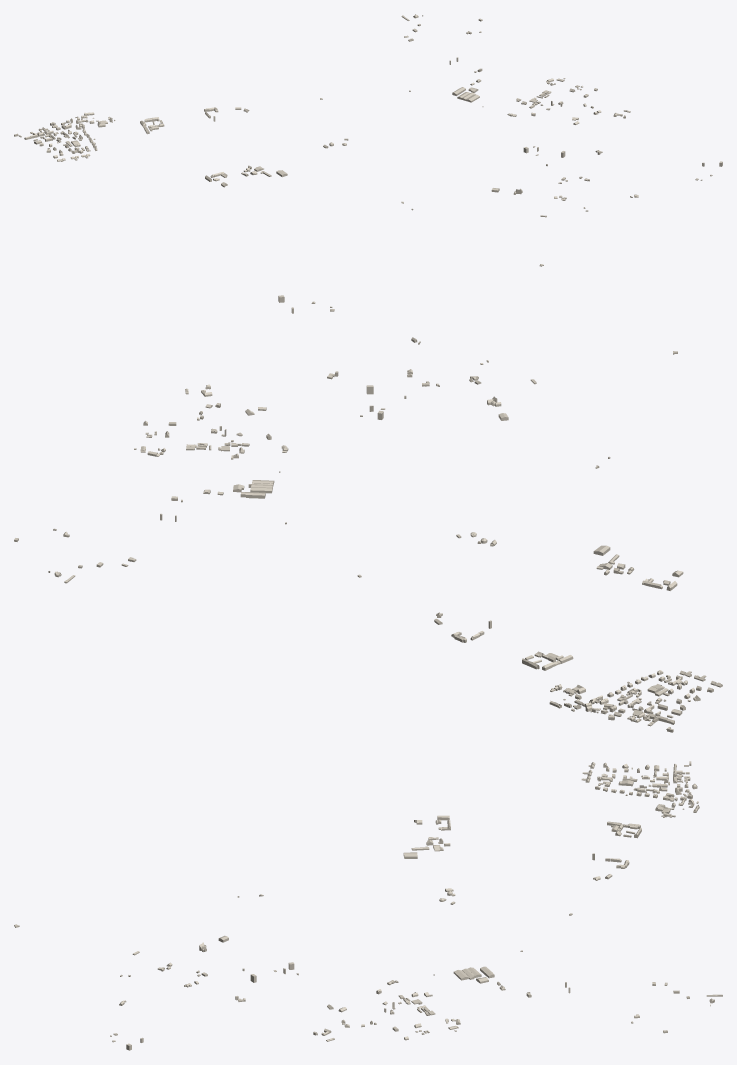
3 views of the same model, one above another, from view 1: azimuth 30°, elevation 25°; view 2: azimuth 150°, elevation 25°; view 3: azimuth 270°, elevation 25° (orthographic). The views are drawn at different scales.
Size of the model in its own units: 1823 by 64.59 by 1798.
